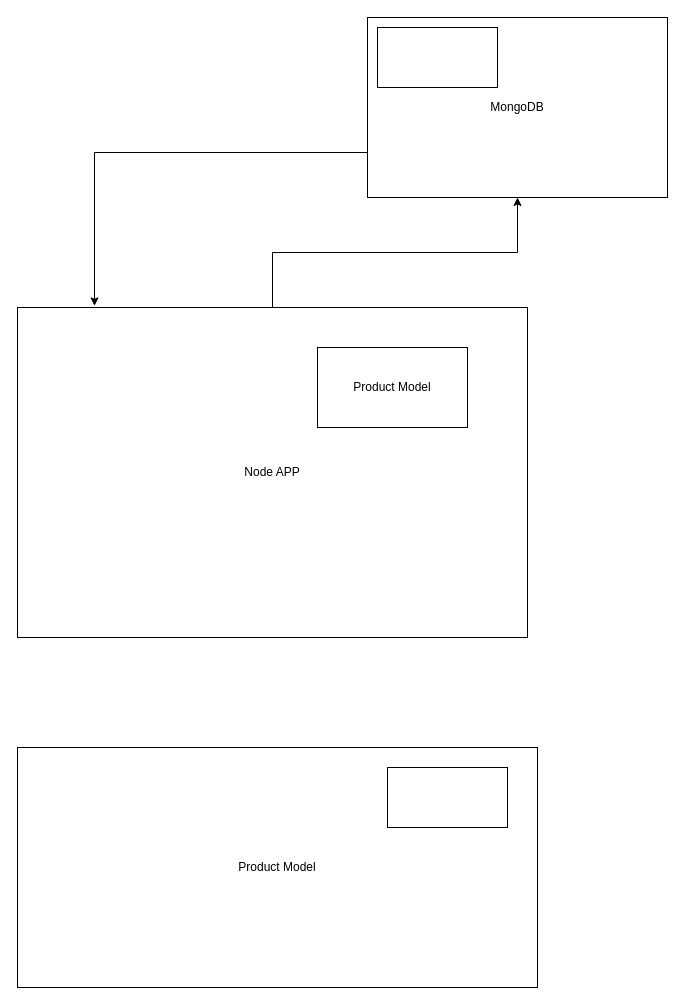
This 685x1005 diagram has some shape labels left out. The shapes that lost their labels are listed below. From the top down, each one's centre as x and y in pixels, then its label:
At (437,57): "Product Data".
At (447,797): "Product Schema".
